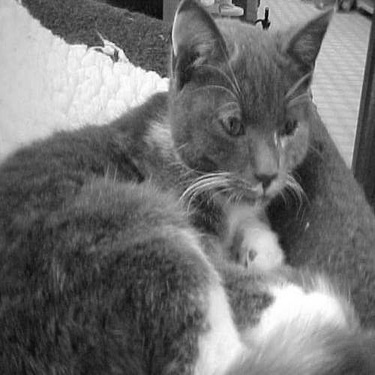cat: (4, 1, 367, 365)
